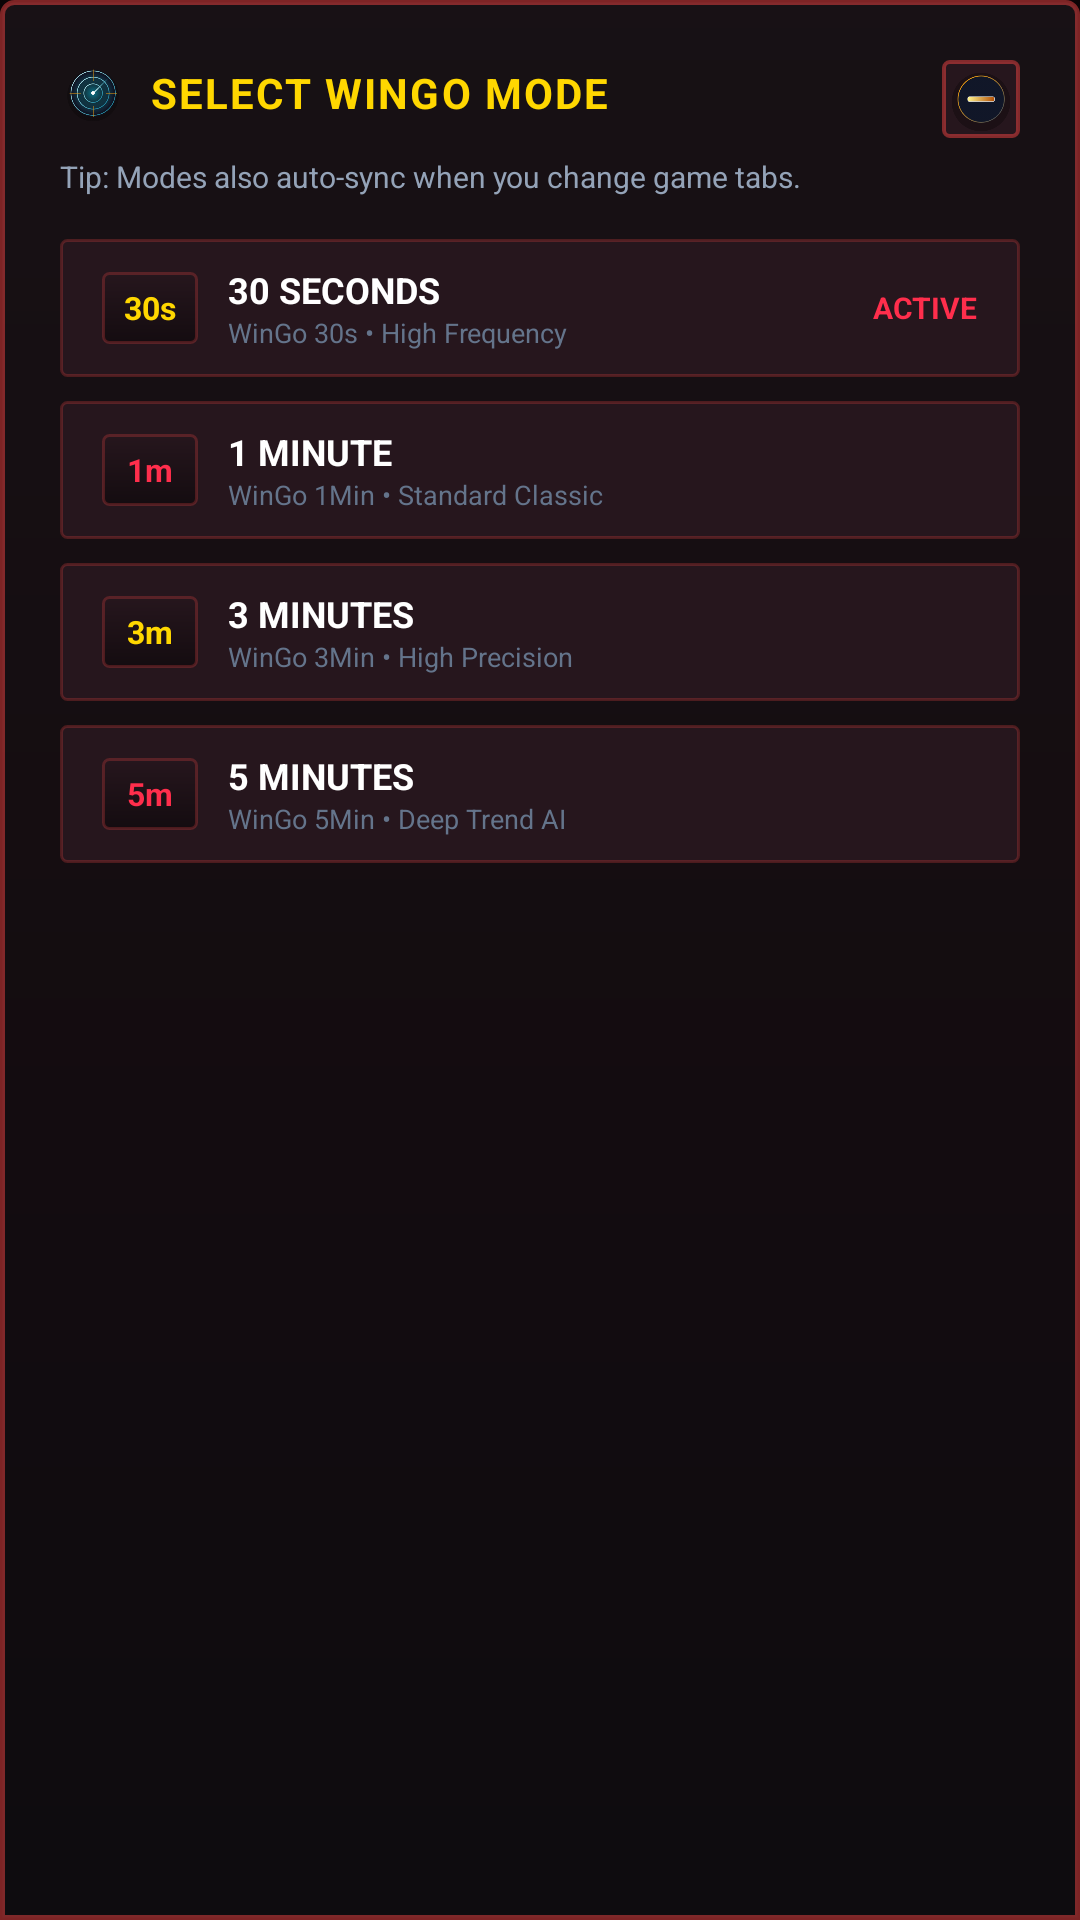

Icons on this 1080w x 1920h Android screen, each with its box as rect(x1, y1, x2, y2):
minimize 3d: rect(942, 60, 1020, 138)
radar 3d: rect(69, 69, 117, 117)
